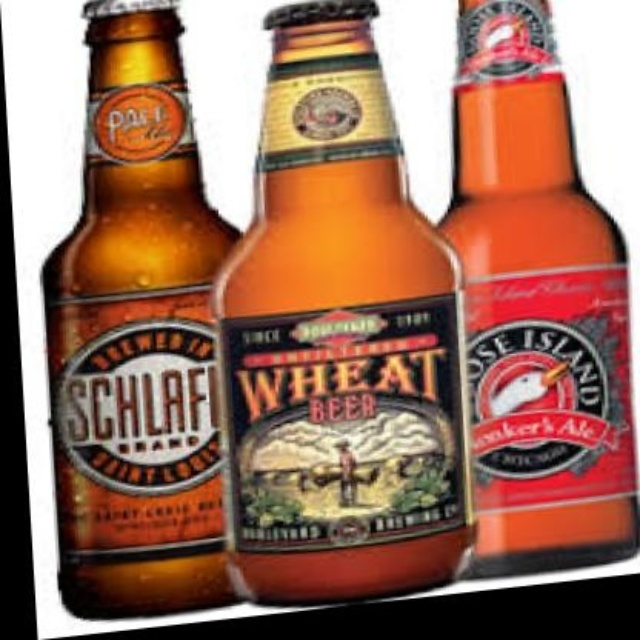trash: (217, 0, 469, 602), (45, 0, 235, 615), (442, 0, 635, 575)
